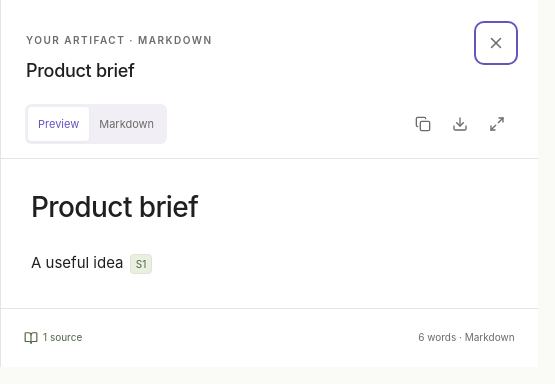
Test: trust and artifact UI › switches a saved artifact from preview to source
Click the tab "Markdown" at (127, 124), box [89,107,164,141]
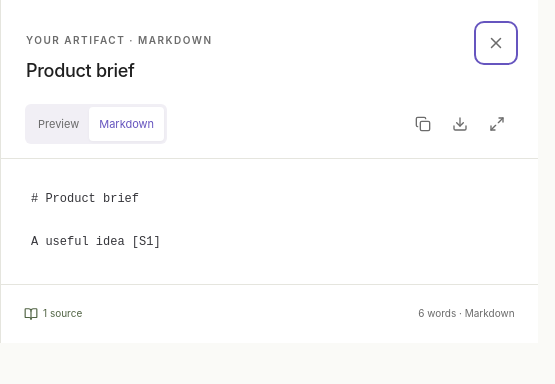
Result: the text "# Product brief A useful idea [S1]" is shown at [31,192,161,249]
